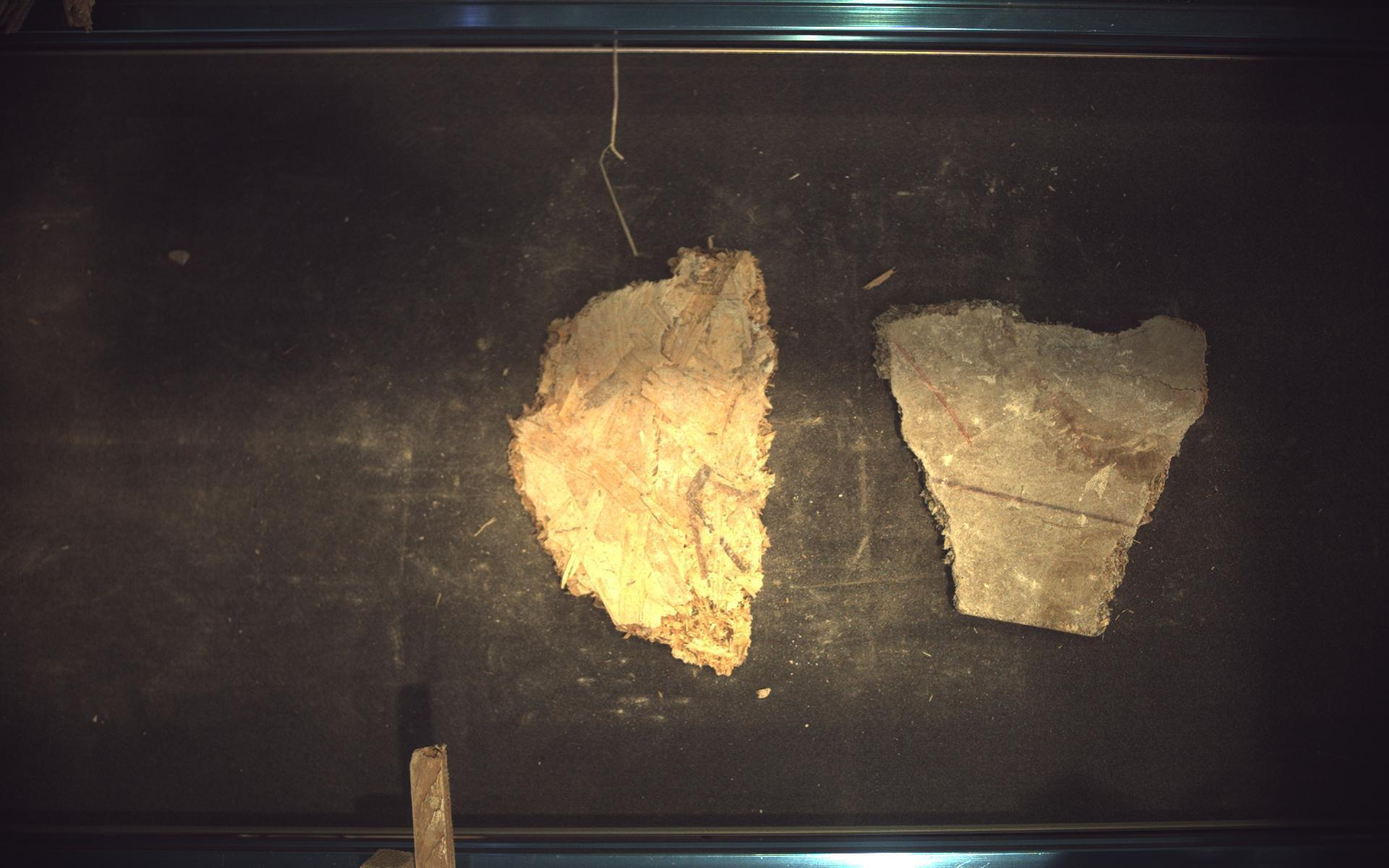wood: (509, 248, 778, 676), (877, 300, 1210, 637), (865, 268, 897, 290)
